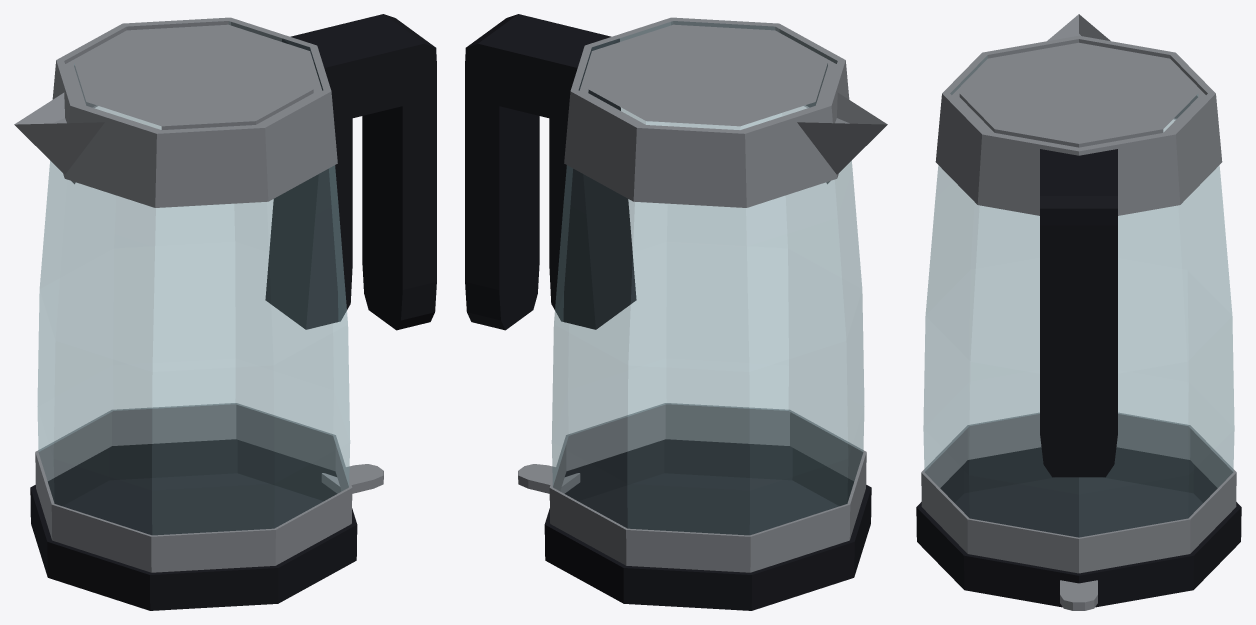
Rendered from jarra hervidora.fbx.
3 views of the same model, side by side, from view 1: azimuth 30°, elevation 25°; view 2: azimuth 150°, elevation 25°; view 3: azimuth 270°, elevation 25° (orthographic). The views are drawn at different scales.
Visible parts, largest first — view 1: vaso.001, mango jarra, base jarra, boca.001, boton jarra; view 2: vaso.001, mango jarra, base jarra, boca.001, boton jarra; view 3: vaso.001, base jarra, mango jarra, boton jarra, boca.001.
Part boxes in pixels (box(x1,y1,x2,y2)): vaso.001: box(35, 17, 352, 572); mango jarra: box(265, 14, 436, 330); base jarra: box(30, 439, 357, 610); boca.001: box(14, 92, 104, 184); boton jarra: box(321, 464, 383, 493); vaso.001: box(549, 17, 866, 572); mango jarra: box(465, 14, 636, 330); base jarra: box(544, 439, 871, 610); boca.001: box(797, 92, 887, 184); boton jarra: box(518, 464, 580, 493); vaso.001: box(921, 35, 1236, 573); base jarra: box(916, 447, 1241, 607); mango jarra: box(1040, 149, 1117, 477); boton jarra: box(1060, 580, 1097, 610); boca.001: box(1047, 14, 1110, 40).
Bounding box in the file's own units: 23.56 × 17.15 × 26.07.
